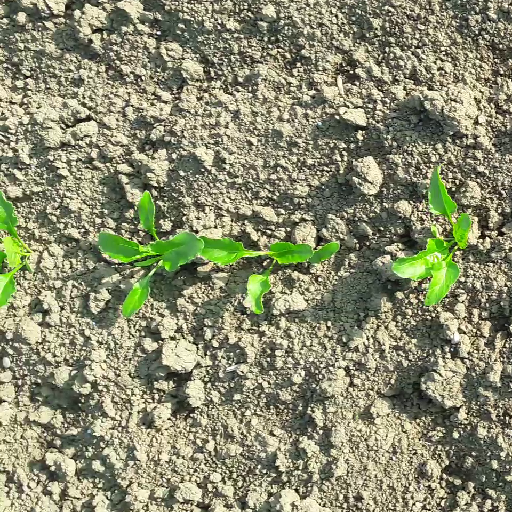sugarbeet: (90, 188, 208, 320), (196, 232, 350, 319), (386, 167, 473, 311), (1, 187, 38, 310)
